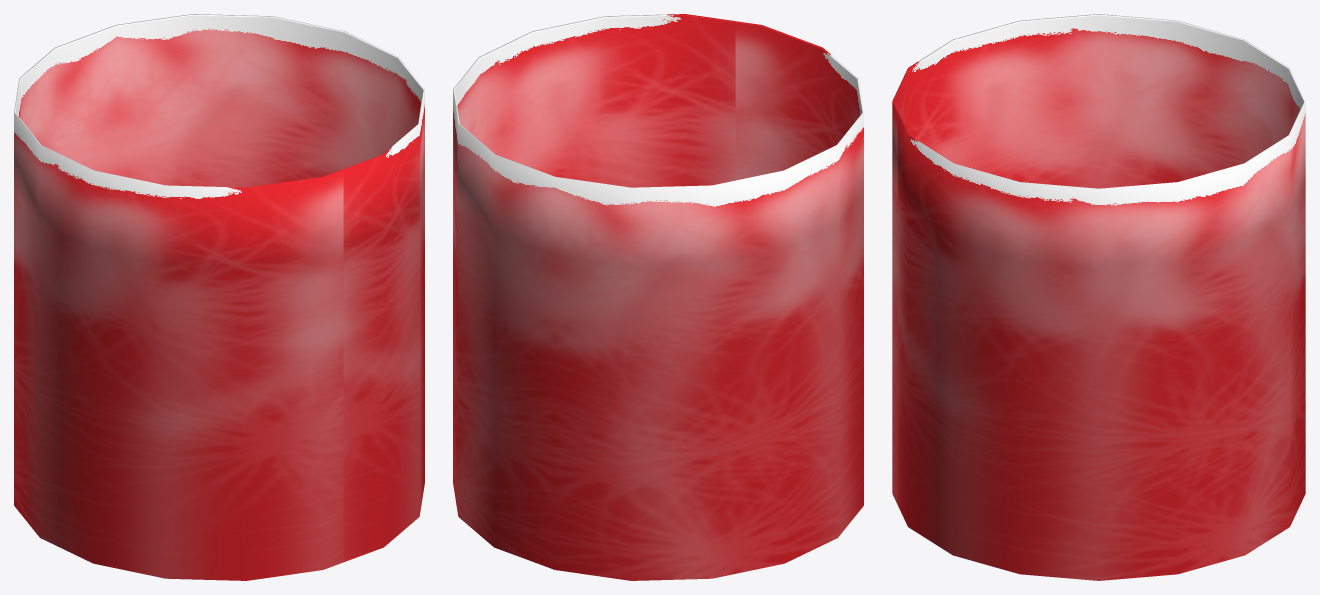
Rendered from Locatobject.FBX.
3 renders of one model, left to right at view 1: azimuth 30°, elevation 25°; view 2: azimuth 150°, elevation 25°; view 3: azimuth 270°, elevation 25°, orthographic.
Visible parts, largest first — view 1: Cylinder001; view 2: Cylinder001; view 3: Cylinder001.
Part boxes in pixels (x1,y1,x2,y2): Cylinder001: [14, 14, 424, 580]; Cylinder001: [453, 14, 863, 580]; Cylinder001: [892, 14, 1305, 580].
Size of the model in its own units: 42.06 by 44.08 by 42.06.
